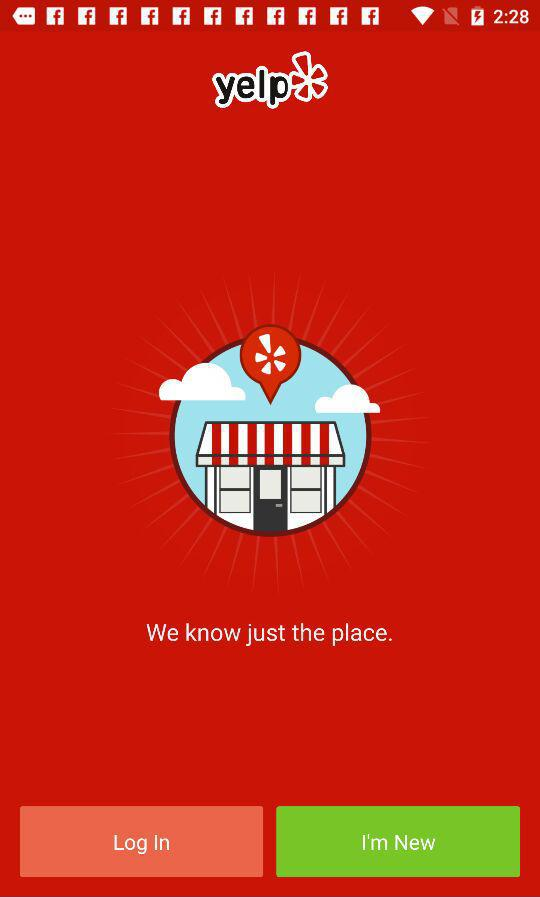Image: (111, 272, 435, 591), (211, 50, 329, 111)
Text: (146, 622, 394, 648)
TextButton: (276, 806, 520, 878), (21, 806, 264, 878)
UpperTaskBar: (1, 1, 540, 29)
